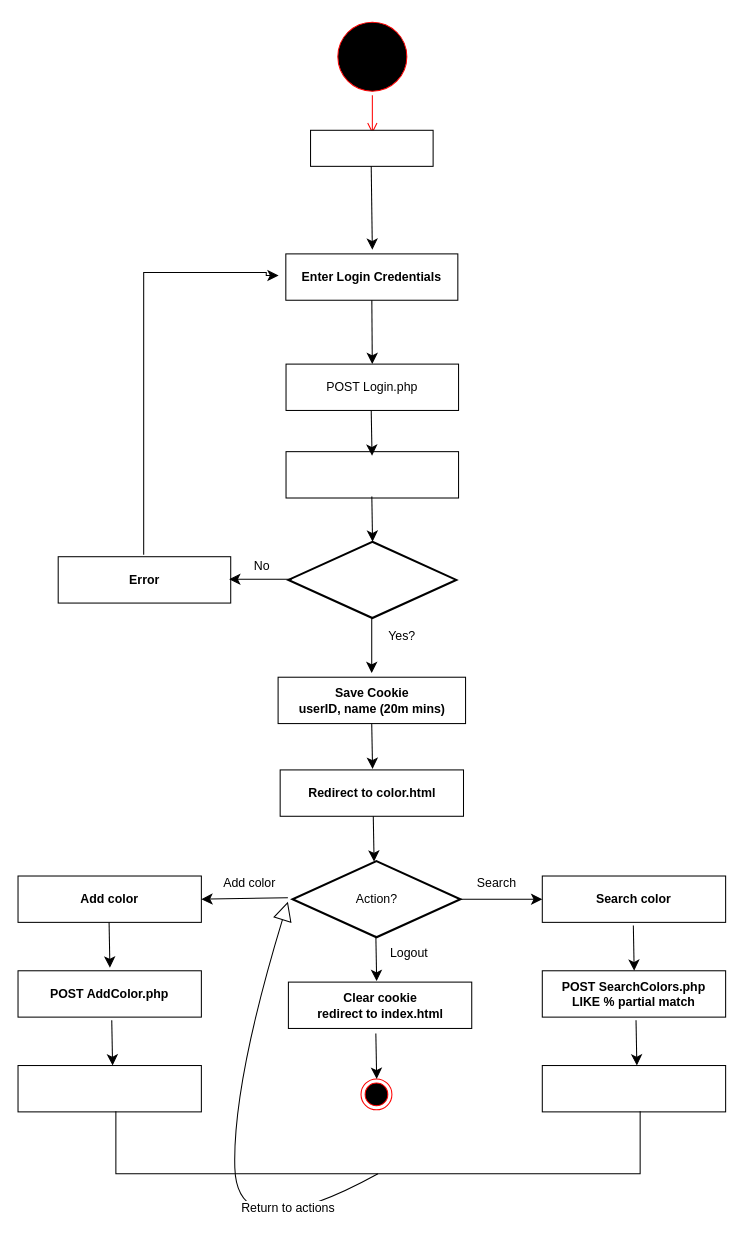
This 744x1248 diagram has some shape labels left out. The shapes that lost their labels are listed below. From the top down, each one's centre as x and y in pixels, then its label:
At point (371, 147): "Access URL".
At point (372, 474): "Hash password (MD5) Query Users table".
At point (372, 579): "Valid?".
At point (109, 1088): "Insert into colors with userId".
At point (633, 1088): "Display result".
